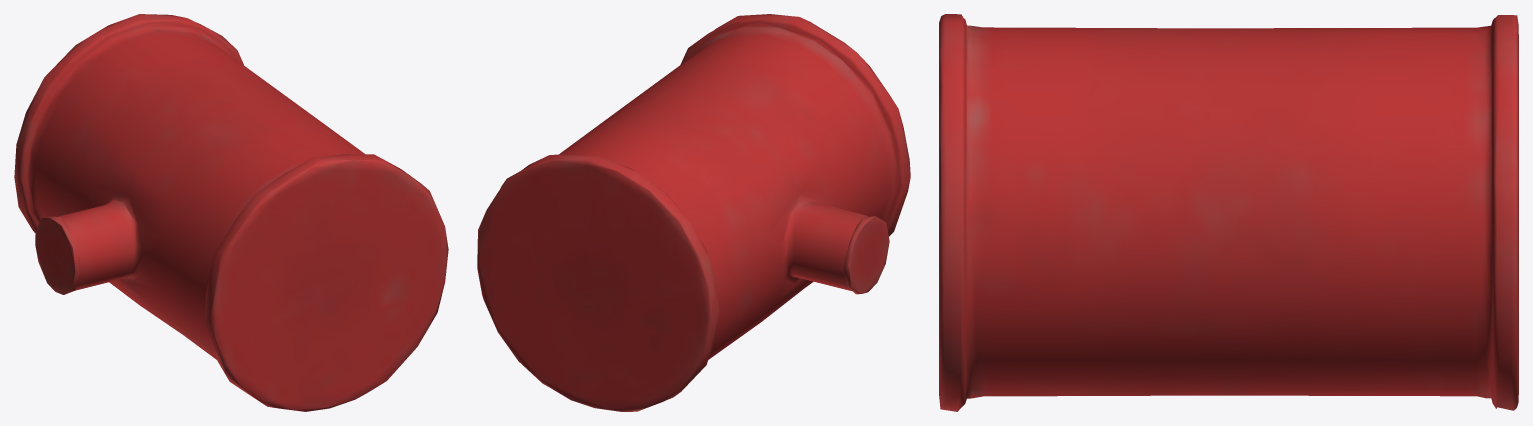
The model's file is SM_Overhead_Utilities03.fbx.
3 views of the same model, side by side, from view 1: azimuth 30°, elevation 25°; view 2: azimuth 150°, elevation 25°; view 3: azimuth 270°, elevation 25° (orthographic). The views are drawn at different scales.
Visible parts, largest first — view 1: SM_Overhead_Utilities03_LOD0; view 2: SM_Overhead_Utilities03_LOD0; view 3: SM_Overhead_Utilities03_LOD0.
Part boxes in pixels (x1=…): SM_Overhead_Utilities03_LOD0: x1=14, y1=14, x2=448, y2=411; SM_Overhead_Utilities03_LOD0: x1=477, y1=14, x2=910, y2=411; SM_Overhead_Utilities03_LOD0: x1=939, y1=14, x2=1518, y2=411.
Size of the model in its own units: 17.06 by 20.03 by 13.78.
